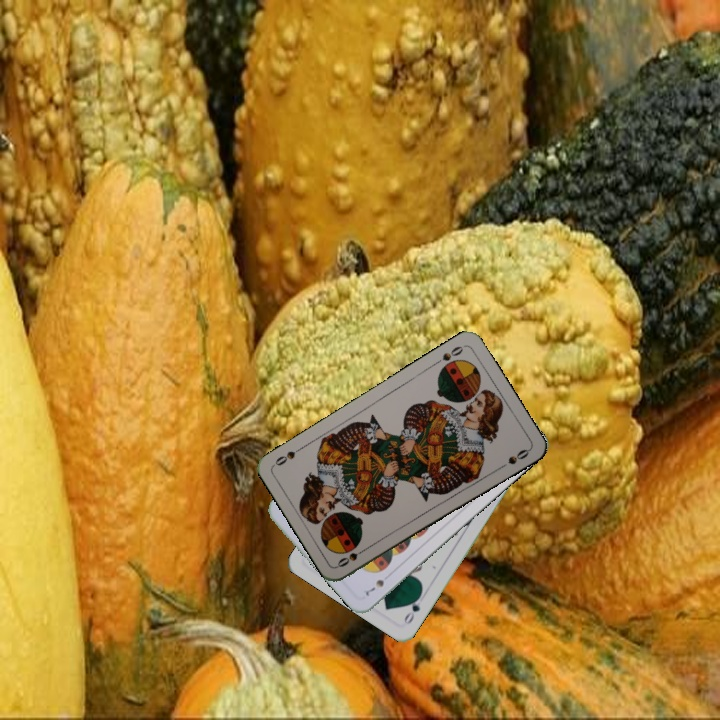GO: (400, 589, 424, 627)
S7: (361, 575, 386, 598)
SO: (333, 543, 370, 570), (430, 341, 467, 368)
